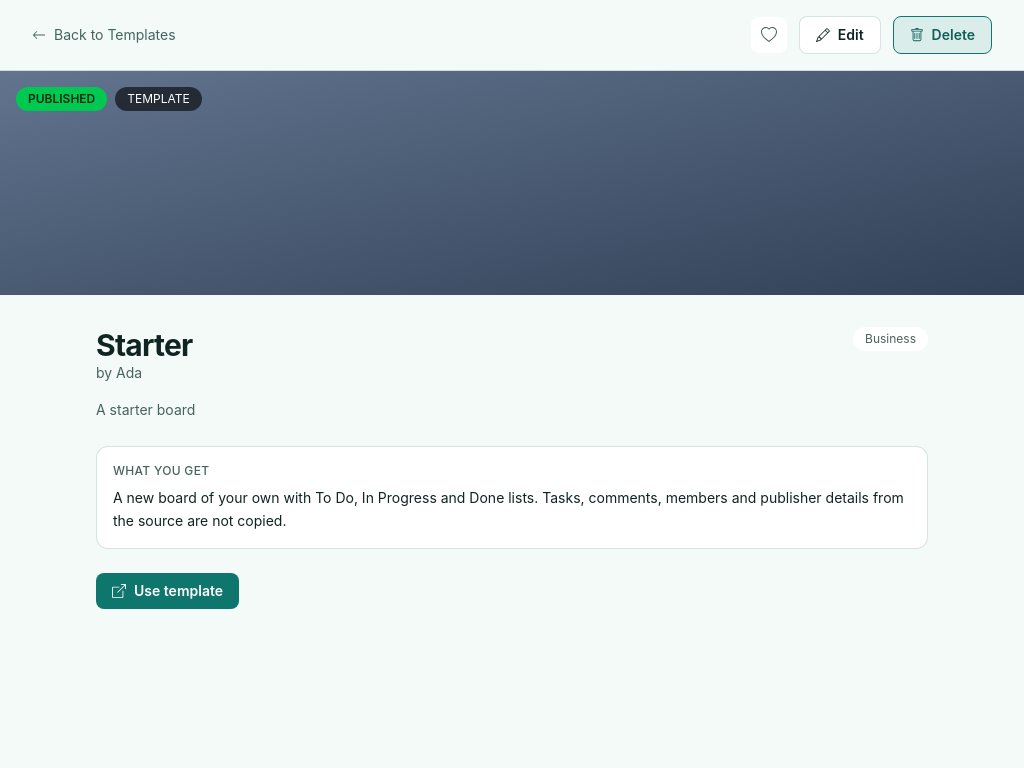
Test case: use template action › opens editing in place instead of navigating to an undeclared edit route
The image size is (1024, 768).
What coordinates should you click on to do the following:
click the button "Edit"
I would click on:
 (840, 35)
Its box is top-left (799, 16), bottom-right (881, 54).
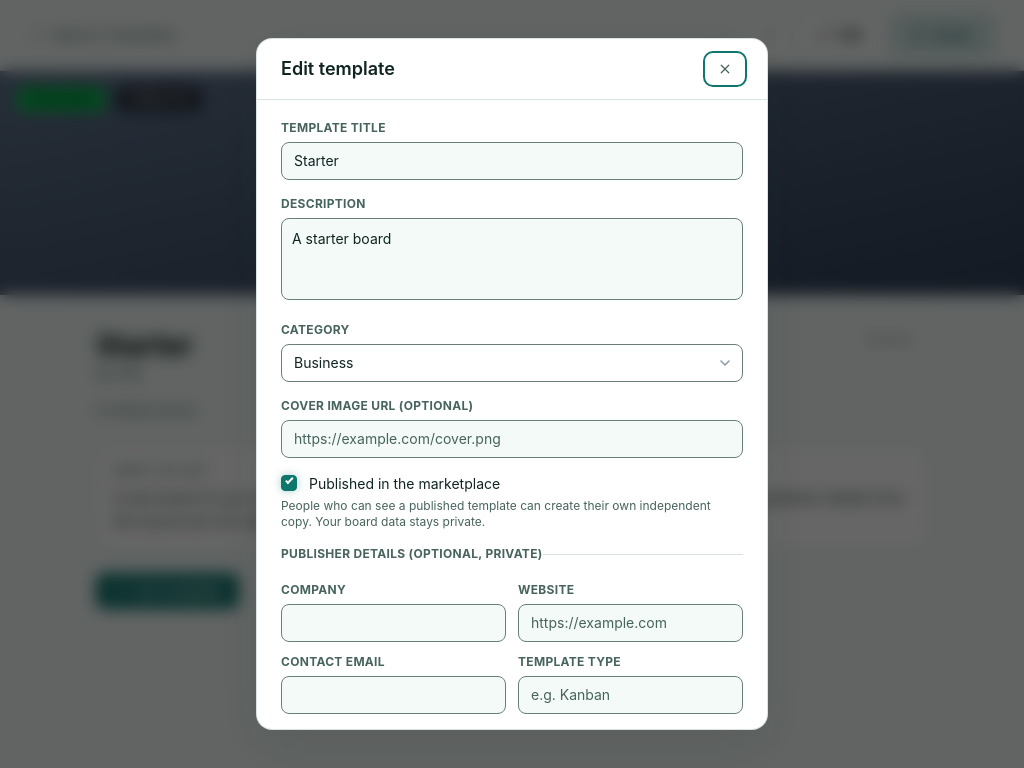
Expected: the dialog "Edit template" is shown, top-left (256, 38), bottom-right (768, 730)
